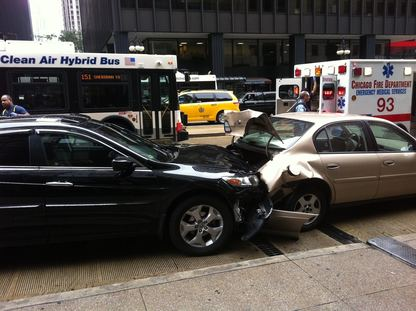ambulance: (276, 59, 416, 135)
car: (0, 115, 275, 253), (237, 113, 411, 232), (165, 88, 239, 122), (242, 92, 288, 113)
